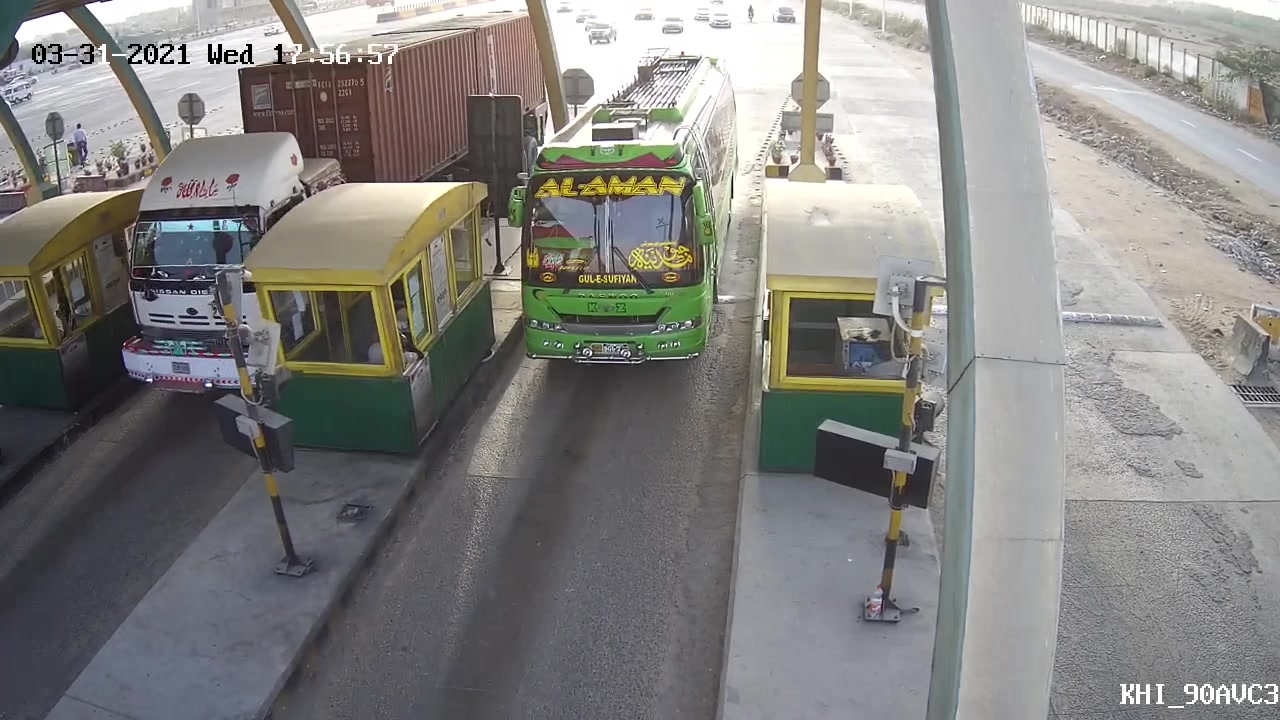F4: (499, 40, 751, 367)
